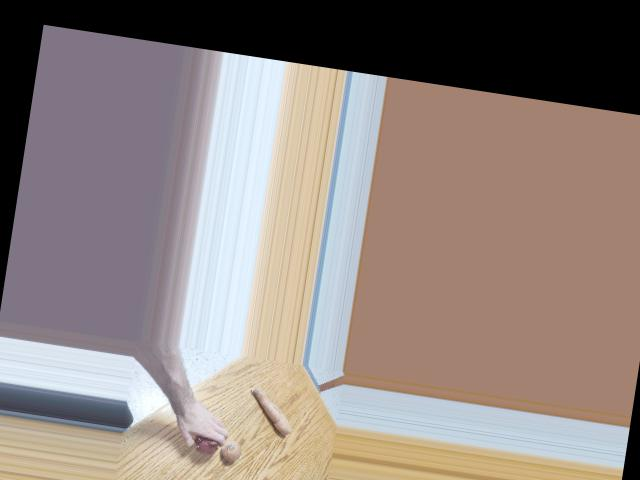onion: (192, 427, 220, 454)
